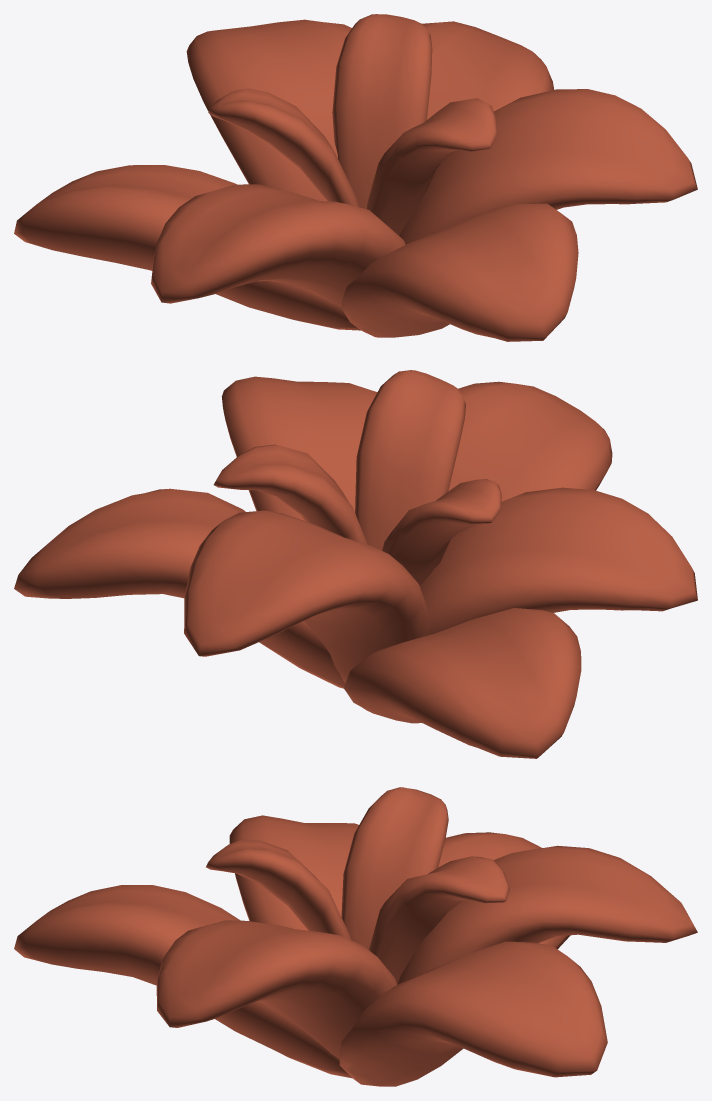
The model's file is Plant_C_03.fbx.
3 renders of one model, top to bottom at view 1: azimuth 30°, elevation 25°; view 2: azimuth 150°, elevation 25°; view 3: azimuth 270°, elevation 25°, orthographic. The views are drawn at different scales.
Parts seen in each view (by area): view 1: Plant_C_03_LOD0; view 2: Plant_C_03_LOD0; view 3: Plant_C_03_LOD0.
Boxes of the visible parts, <box> form: Plant_C_03_LOD0: <box>14,14,697,341</box>; Plant_C_03_LOD0: <box>14,370,697,758</box>; Plant_C_03_LOD0: <box>14,787,697,1086</box>.
Size of what is drawn, in the model's own units: 636 by 308 by 755.
